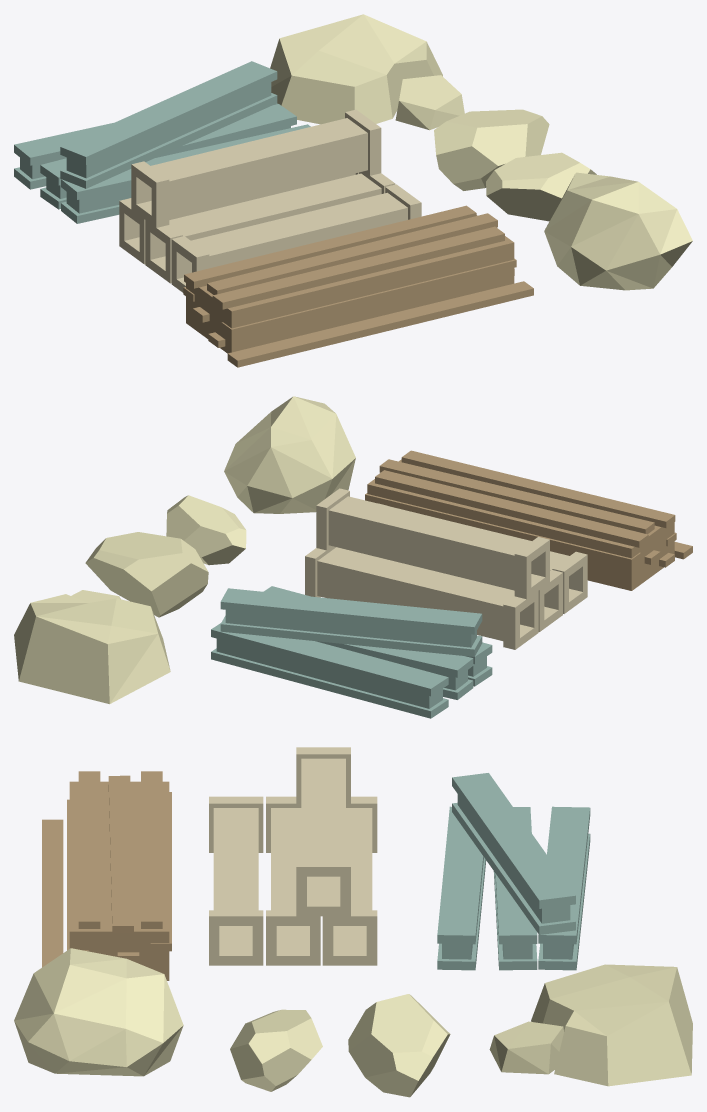
The model's file is Aprops.fbx.
3 views of the same model, one above another, from view 1: azimuth 30°, elevation 25°; view 2: azimuth 150°, elevation 25°; view 3: azimuth 270°, elevation 25° (orthographic). The views are drawn at different scales.
Parts seen in each view (by area): view 1: Block1, Block2, Block3, Rcok4, Rcok1, Rcok3, Rcok2; view 2: Block2, Block3, Block1, Rcok4, Rcok1, Rcok3, Rcok2; view 3: Block2, Block3, Block1, Rcok4, Rcok1, Rcok3, Rcok2.
Boxes of the visible parts, x1,y1,x2,y2 form: Block1: [183, 205, 533, 367]; Block2: [119, 109, 421, 292]; Block3: [14, 61, 310, 223]; Rcok4: [270, 14, 464, 130]; Rcok1: [544, 172, 692, 290]; Rcok3: [434, 109, 549, 190]; Rcok2: [486, 152, 596, 221]; Block2: [305, 488, 587, 649]; Block3: [211, 586, 492, 718]; Block1: [365, 450, 692, 590]; Rcok4: [14, 590, 170, 704]; Rcok1: [224, 396, 355, 513]; Rcok3: [85, 532, 208, 617]; Rcok2: [166, 495, 246, 565]; Block2: [209, 747, 377, 965]; Block3: [437, 773, 590, 970]; Block1: [42, 771, 171, 980]; Rcok4: [489, 964, 692, 1086]; Rcok1: [14, 948, 183, 1076]; Rcok3: [348, 994, 450, 1097]; Rcok2: [230, 1009, 322, 1091].
Bounding box in the file's own units: 63.07 × 16.09 × 71.52.
1 material, 1 textured.
